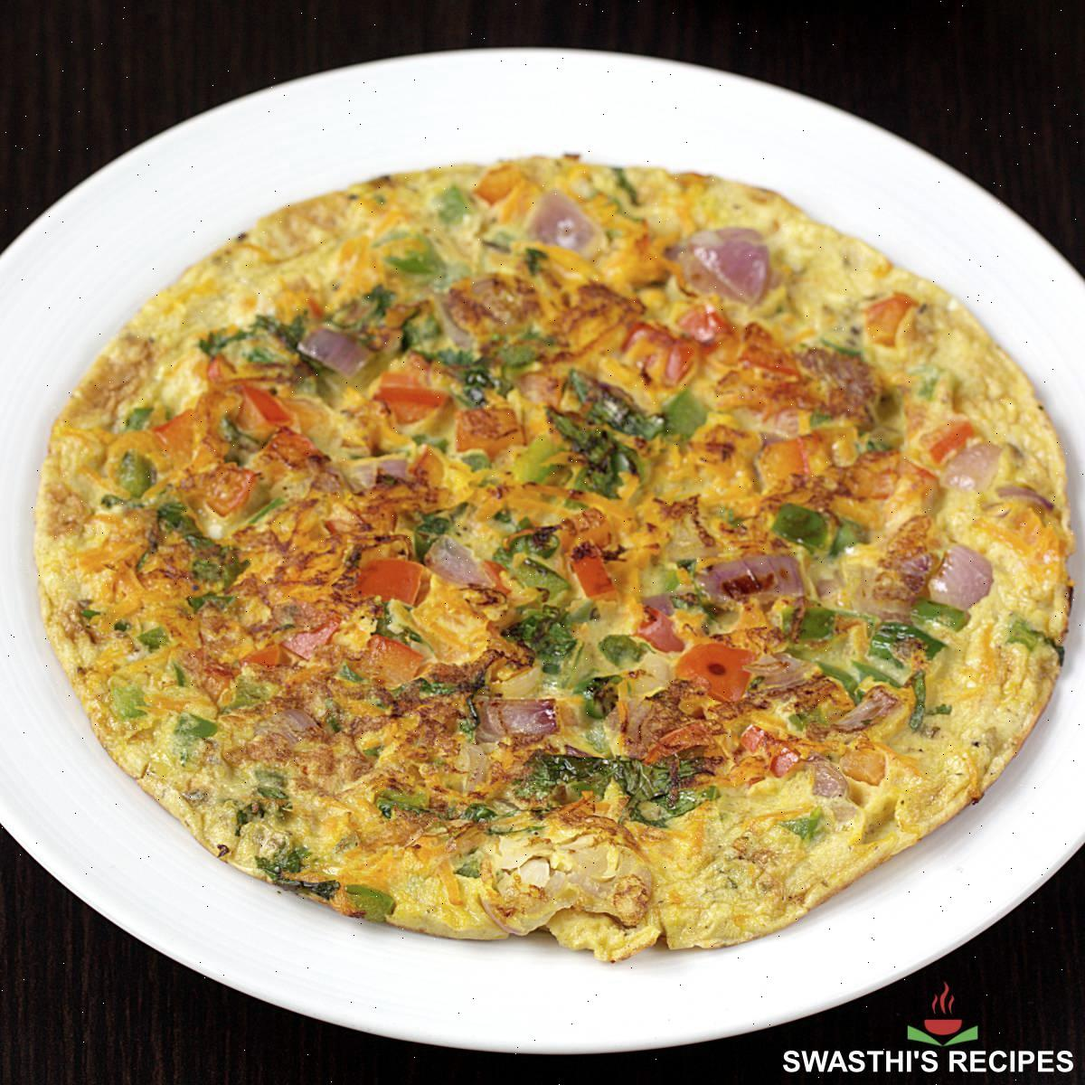omelette: (67, 206, 943, 1011)
